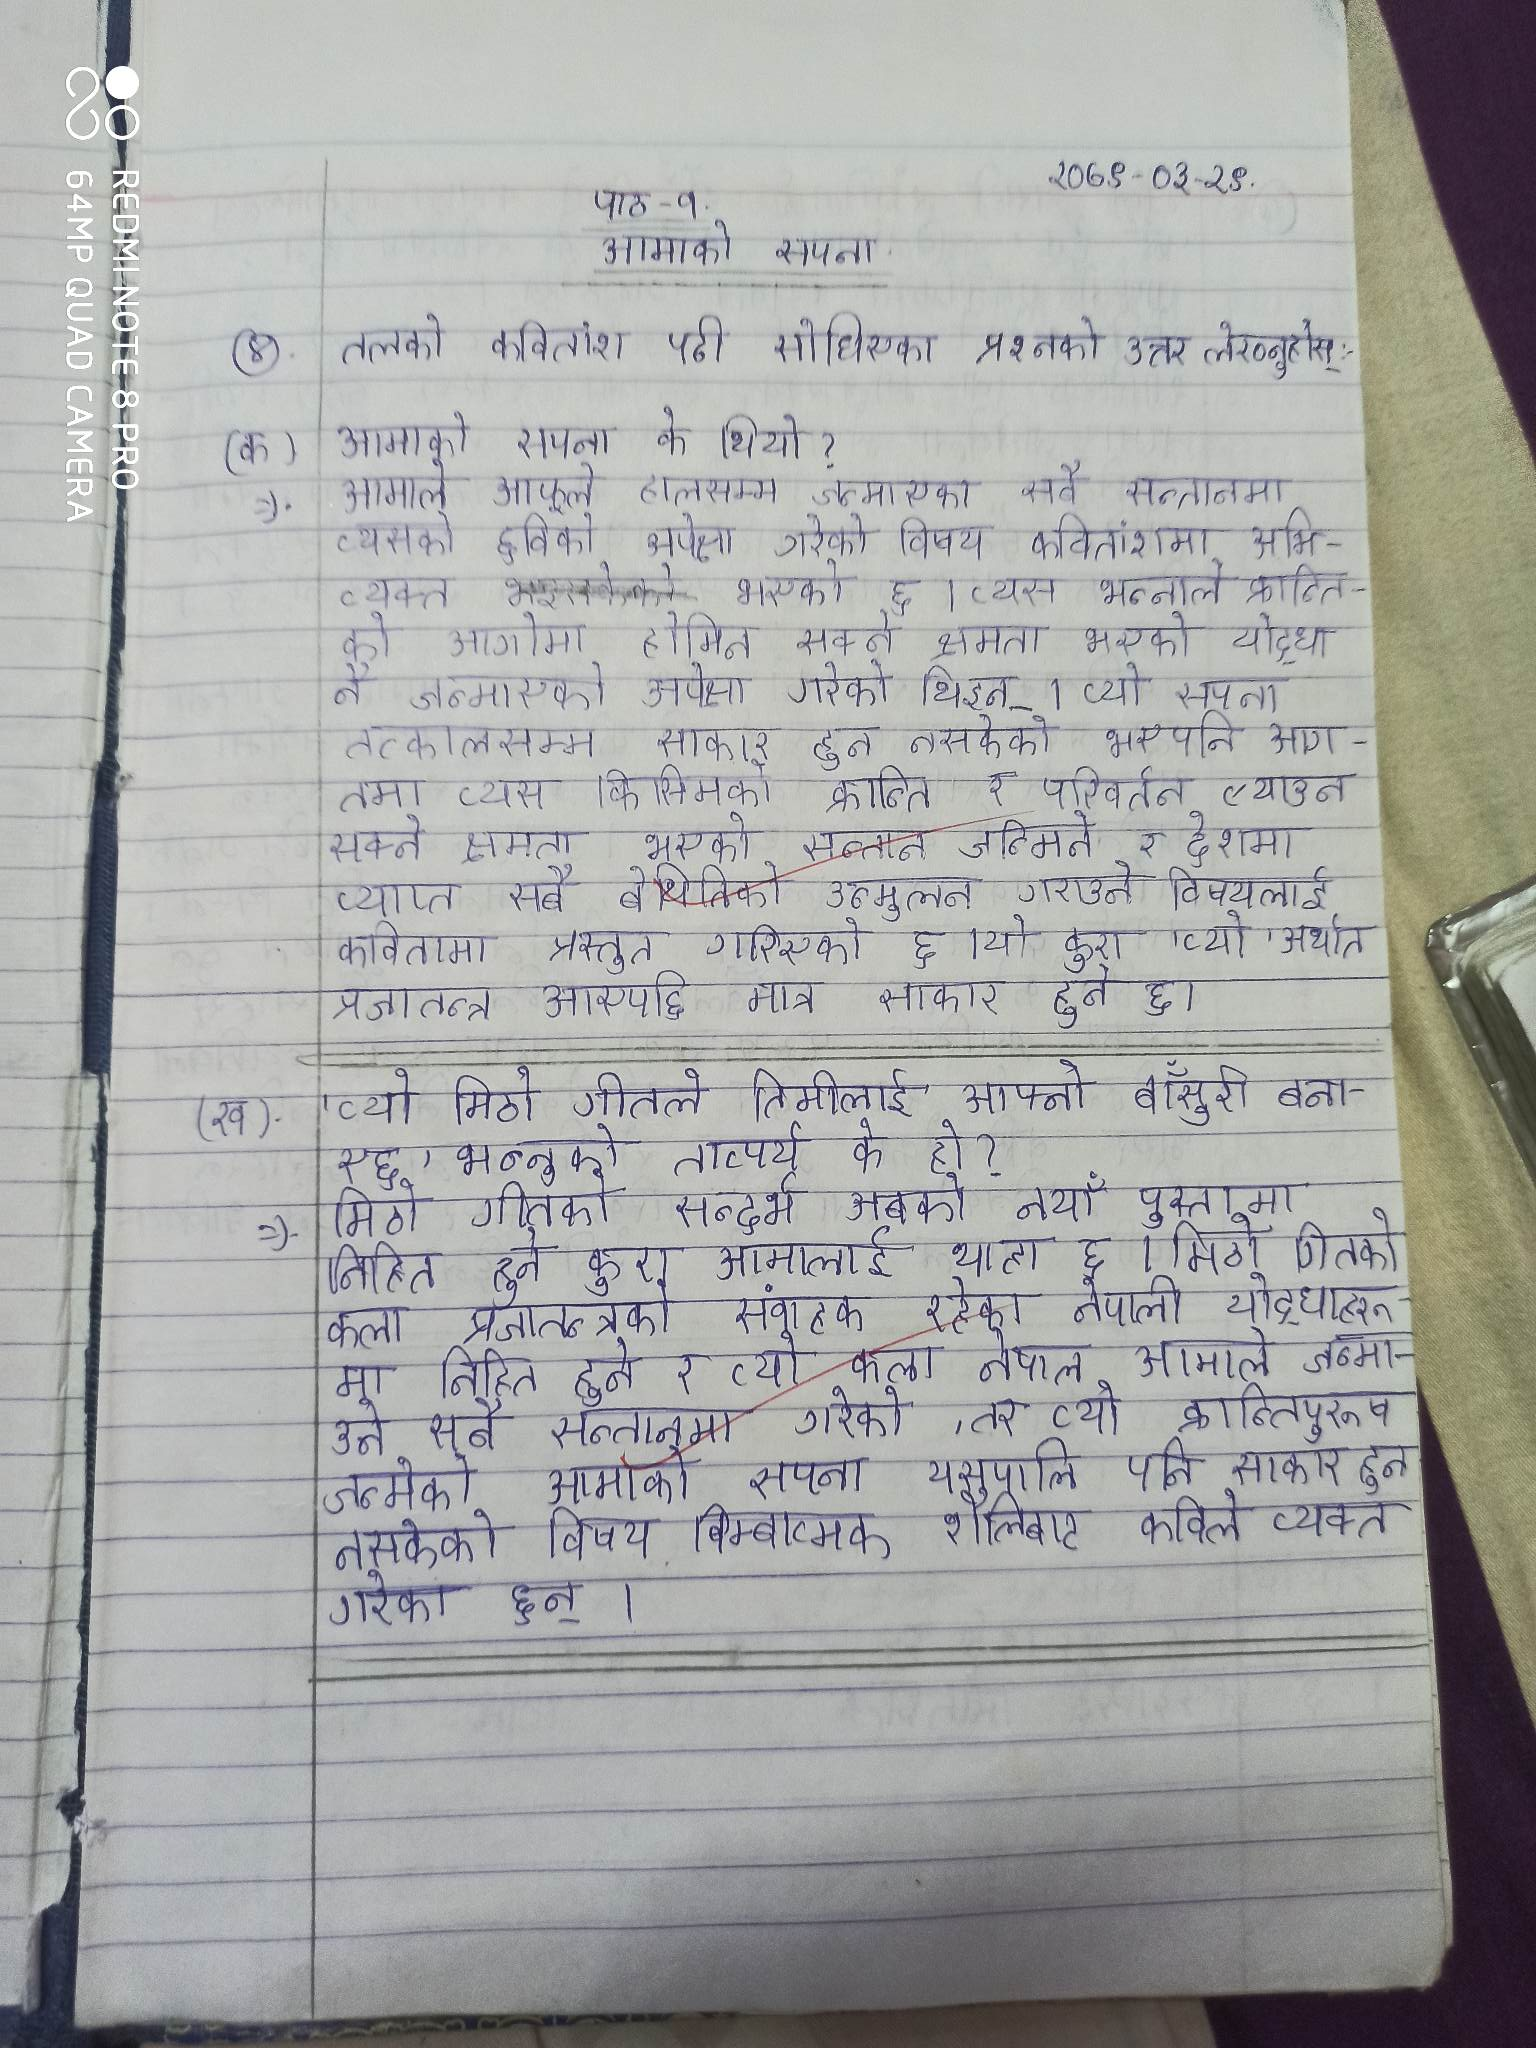text: (689, 1501, 892, 1567), (1175, 1384, 1394, 1443), (461, 1285, 678, 1342), (407, 663, 610, 718), (342, 719, 597, 763), (936, 1485, 1084, 1559), (713, 1226, 897, 1285), (1225, 1268, 1394, 1332), (582, 760, 778, 813), (452, 1121, 615, 1184), (920, 1438, 1083, 1501), (1029, 510, 1215, 563), (771, 311, 942, 368), (744, 1063, 918, 1118), (1042, 156, 1255, 200), (1158, 863, 1331, 916), (319, 1455, 478, 1513), (1129, 1056, 1254, 1129), (332, 1514, 502, 1567), (666, 1171, 800, 1237), (542, 1447, 694, 1505), (702, 914, 866, 968), (536, 968, 691, 1024), (336, 916, 494, 971), (549, 1403, 741, 1448), (1202, 319, 1342, 381), (570, 1063, 708, 1124), (615, 863, 787, 911), (1100, 705, 1241, 763), (1134, 1326, 1275, 1384), (466, 1177, 615, 1232), (445, 606, 589, 663), (671, 1118, 807, 1177), (326, 1571, 453, 1634), (958, 1056, 1089, 1118), (905, 710, 1050, 763), (971, 1324, 1087, 1390), (975, 311, 1104, 369), (841, 1171, 970, 1229), (1292, 1208, 1402, 1276), (957, 811, 1096, 863), (818, 876, 975, 921), (810, 471, 978, 513), (1267, 1485, 1391, 1542), (337, 408, 473, 460), (539, 1505, 658, 1563), (1039, 768, 1192, 813), (487, 318, 632, 364), (731, 1287, 866, 1337), (329, 984, 497, 1024), (792, 1385, 907, 1443), (324, 1242, 442, 1298), (1133, 1179, 1297, 1219), (642, 606, 758, 663), (639, 656, 749, 716), (1183, 811, 1297, 868), (639, 810, 757, 864), (482, 461, 602, 514), (731, 556, 850, 610), (1094, 563, 1225, 611), (1013, 856, 1139, 906), (1078, 606, 1196, 660), (1070, 1276, 1187, 1329), (334, 461, 455, 513), (1117, 472, 1292, 508), (595, 223, 733, 268), (916, 660, 1029, 714), (437, 1343, 547, 1400), (331, 511, 458, 560), (639, 468, 783, 510), (824, 763, 934, 818), (1163, 1218, 1267, 1276), (544, 922, 662, 972), (1013, 1164, 1104, 1229), (1233, 610, 1333, 668), (747, 1455, 866, 1503), (1137, 1495, 1246, 1548), (1213, 768, 1350, 810), (786, 656, 892, 710), (337, 313, 447, 364), (921, 1279, 1031, 1330), (452, 1063, 539, 1127), (336, 1064, 419, 1130), (489, 513, 595, 564), (771, 506, 874, 560), (329, 876, 458, 918), (874, 979, 1005, 1019), (1228, 1447, 1342, 1492), (894, 510, 991, 563), (797, 826, 934, 863), (1170, 669, 1286, 713), (331, 1184, 419, 1240), (573, 1337, 642, 1408), (795, 608, 897, 656), (329, 816, 424, 868), (653, 722, 774, 763), (716, 408, 805, 463), (579, 1242, 670, 1295), (487, 1230, 552, 1305), (642, 513, 736, 563), (1050, 1379, 1126, 1440), (1300, 1332, 1399, 1379), (729, 1334, 808, 1392), (1242, 563, 1347, 606), (947, 1230, 1047, 1276), (337, 572, 453, 611), (324, 1300, 408, 1351), (766, 231, 878, 269), (511, 421, 613, 463), (503, 1579, 586, 1630), (928, 624, 1047, 660), (337, 772, 428, 819), (457, 771, 553, 814), (1123, 1438, 1196, 1496), (586, 185, 703, 221), (1246, 511, 1325, 563), (428, 1397, 502, 1451), (1050, 968, 1117, 1029), (455, 826, 573, 860), (502, 860, 570, 918), (847, 1343, 937, 1387), (665, 313, 733, 368), (1079, 656, 1149, 710), (966, 569, 1062, 608), (329, 1397, 387, 1459), (1278, 922, 1367, 963), (1179, 911, 1250, 959), (1018, 456, 1083, 508), (742, 976, 821, 1018), (1355, 1440, 1413, 1496), (1058, 926, 1128, 972), (332, 1140, 402, 1187), (1271, 1071, 1350, 1111), (808, 724, 878, 769), (1267, 721, 1341, 763), (966, 1388, 1023, 1440), (340, 611, 394, 663), (923, 1119, 971, 1176), (979, 913, 1034, 961), (1120, 331, 1191, 368), (328, 1356, 387, 1400), (850, 1114, 891, 1172), (655, 402, 694, 461), (207, 1095, 248, 1143), (232, 427, 274, 471), (1139, 972, 1179, 1018), (332, 663, 369, 711), (878, 572, 918, 616), (908, 921, 942, 972), (671, 1348, 705, 1397), (983, 764, 1013, 811), (240, 332, 274, 368), (1075, 1232, 1105, 1271), (1134, 824, 1162, 860)
